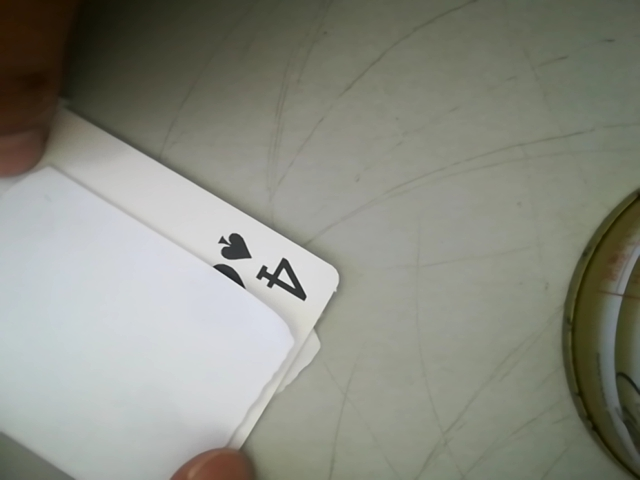ht 4: (193, 220, 328, 309)
